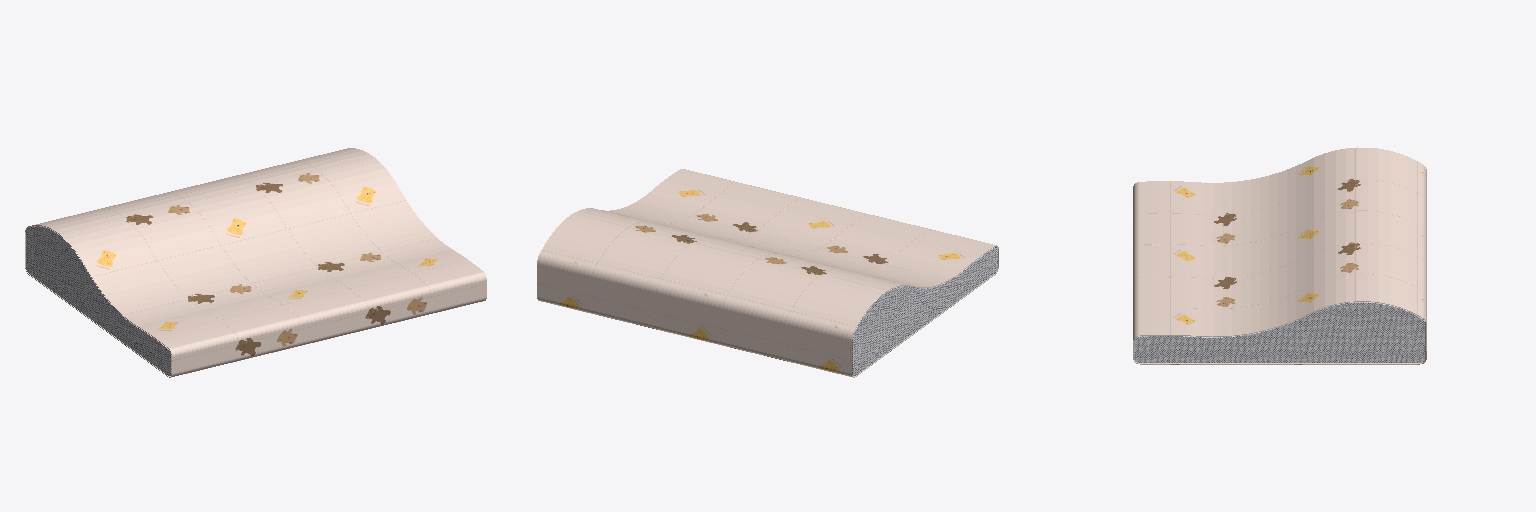
The picture shows the model from 3 angles: view 1: azimuth 30°, elevation 25°; view 2: azimuth 150°, elevation 25°; view 3: azimuth 270°, elevation 25°; orthographic projection.
Visible parts, largest first — view 1: pillow3; view 2: pillow3; view 3: pillow3.
Part boxes in pixels (bbox=[...]): pillow3: bbox=[25, 148, 486, 377]; pillow3: bbox=[537, 169, 998, 377]; pillow3: bbox=[1133, 147, 1426, 364].
Size of the model in its own units: 5.77 by 1.11 by 4.66.
2 materials, 2 textured.